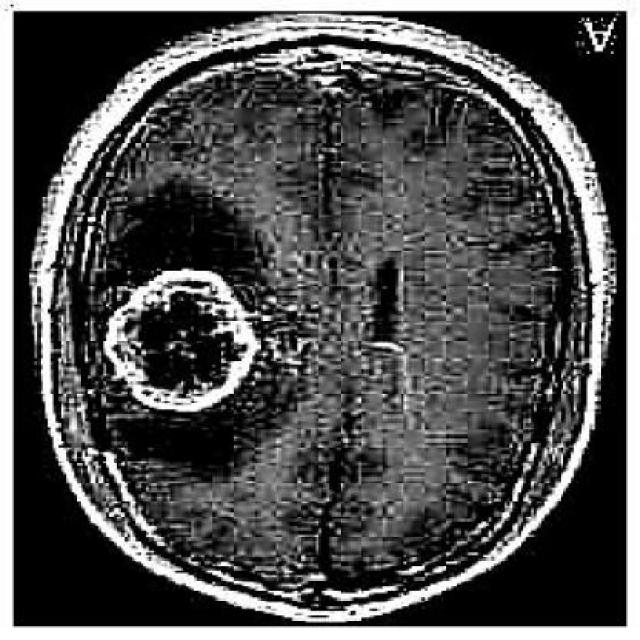Tumor: (98, 253, 253, 404)
